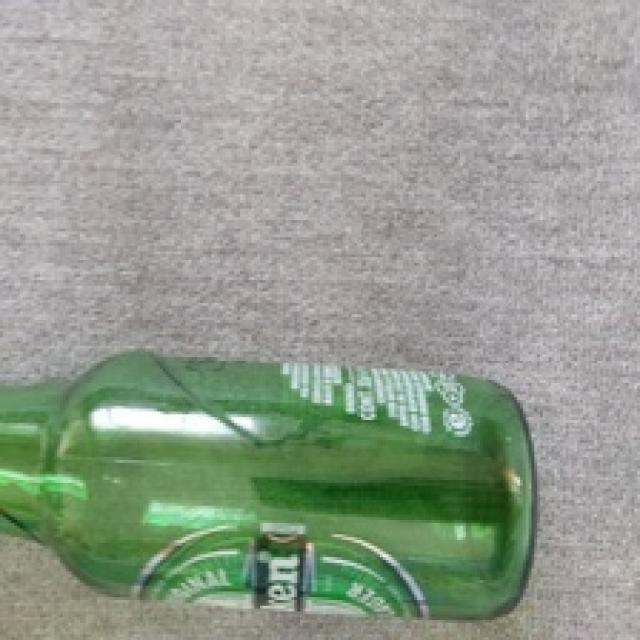Glass: (0, 351, 540, 621)
